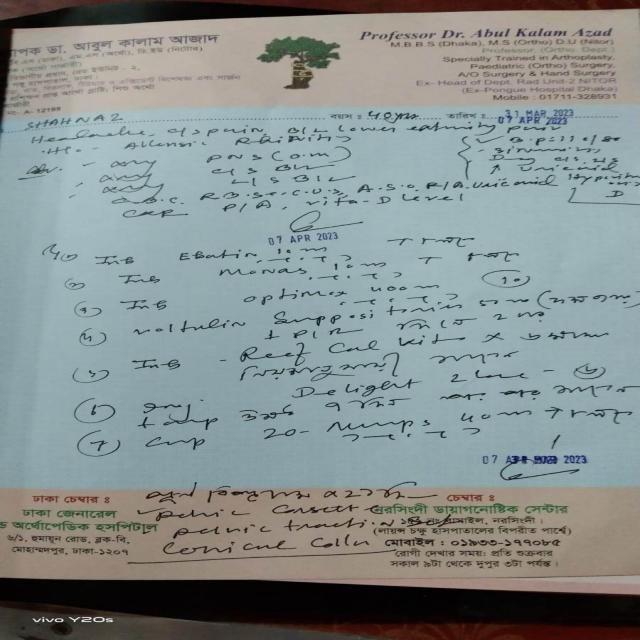Delight: (289, 375, 423, 401)
Ebatin: (173, 247, 265, 263)
Monas: (210, 265, 313, 279)
Optimox: (235, 286, 360, 309)
Reefcal Kit: (231, 333, 460, 363)
Voltalin: (124, 318, 248, 338)
Zo-Mups: (258, 416, 439, 442)
